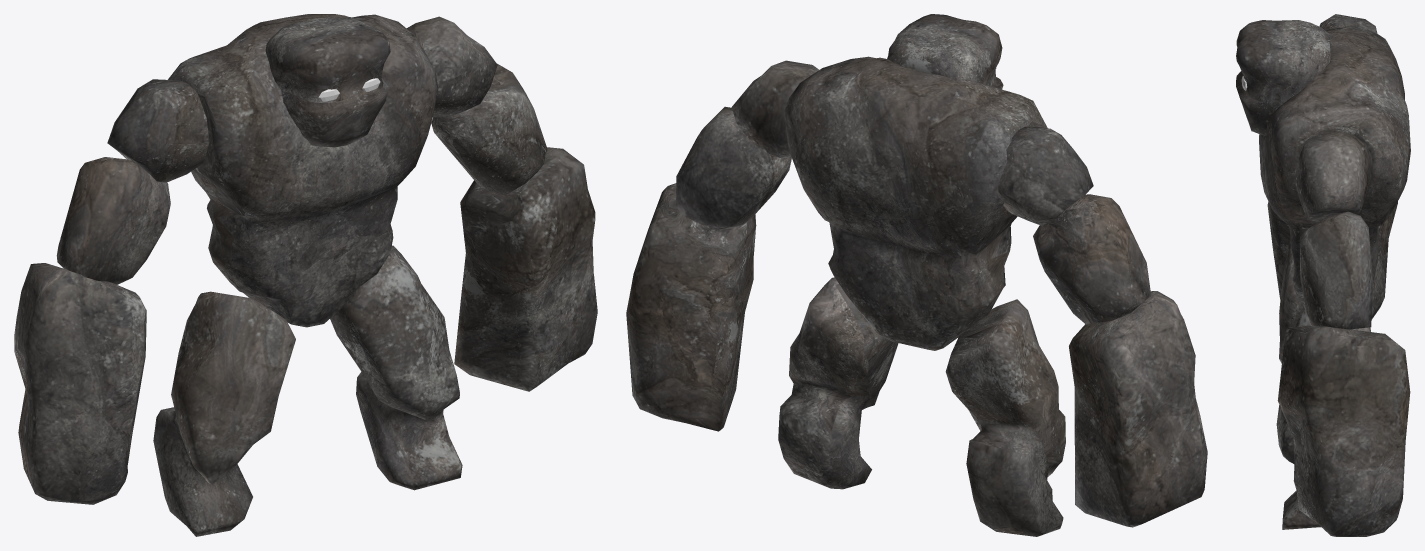
Rendered from golem.glb.
3 renders of one model, left to right at view 1: azimuth 30°, elevation 25°; view 2: azimuth 150°, elevation 25°; view 3: azimuth 270°, elevation 25°, orthographic. The views are drawn at different scales.
Visible parts, largest first — view 1: hands&leg.001_ice.003, torso.001_ice.005, head.001_ice.004; view 2: hands&leg.001_ice.003, torso.001_ice.005, head.001_ice.004; view 3: hands&leg.001_ice.003, torso.001_ice.005, head.001_ice.004.
Boxes of the visible parts, left/top/right/bottom form: hands&leg.001_ice.003: left=14, top=16, right=597, bottom=536; torso.001_ice.005: left=168, top=14, right=437, bottom=327; head.001_ice.004: left=265, top=17, right=390, bottom=147; hands&leg.001_ice.003: left=626, top=60, right=1207, bottom=536; torso.001_ice.005: left=784, top=56, right=1047, bottom=350; head.001_ice.004: left=887, top=14, right=1003, bottom=89; hands&leg.001_ice.003: left=1267, top=14, right=1410, bottom=536; torso.001_ice.005: left=1259, top=25, right=1410, bottom=308; head.001_ice.004: left=1236, top=20, right=1331, bottom=135.
Size of the model in its own units: 11.9 by 9.58 by 3.41.
Materials: 2 (1 with a texture image).
